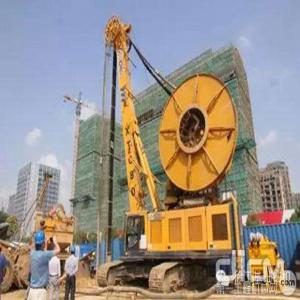blue: (34, 229, 48, 251), (71, 246, 76, 258)
